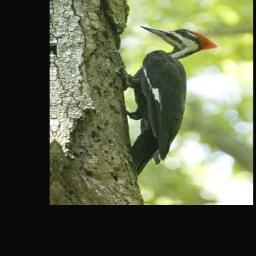Woodpecker: (119, 25, 223, 177)
